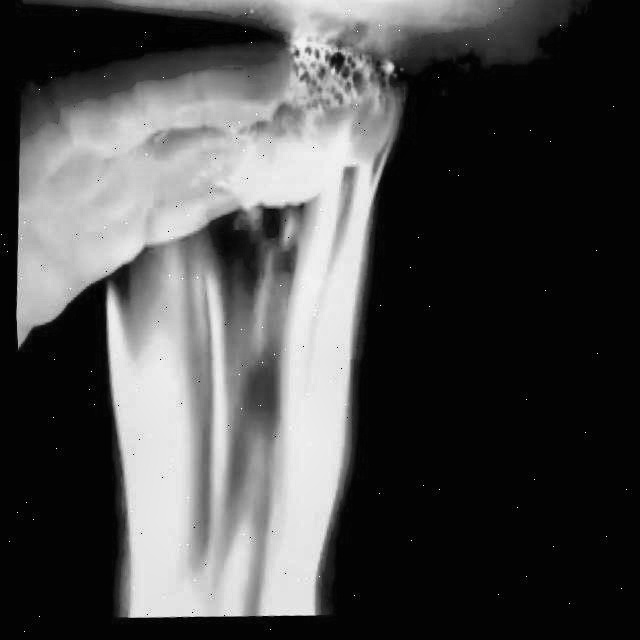Fire: (54, 76, 404, 637)
